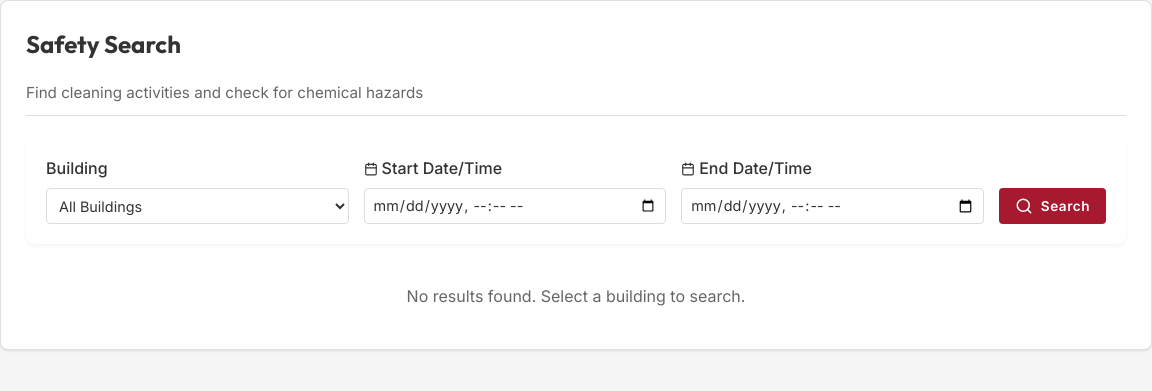
SafetySearch Component › should display search results with warning
The image size is (1152, 391).
Select "Block A" in the dropdown at (197, 206), box [46,188,349,224]
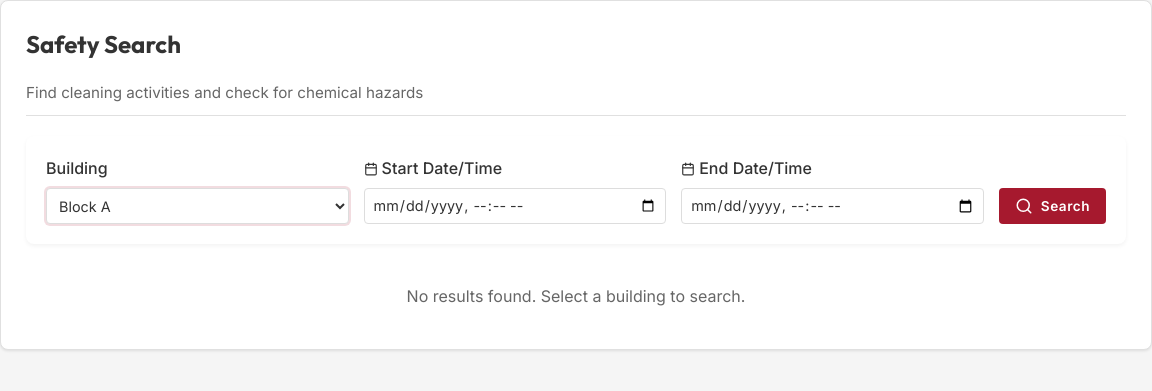
Click the button "Search".
click(1052, 206)  # box [999,188,1106,224]
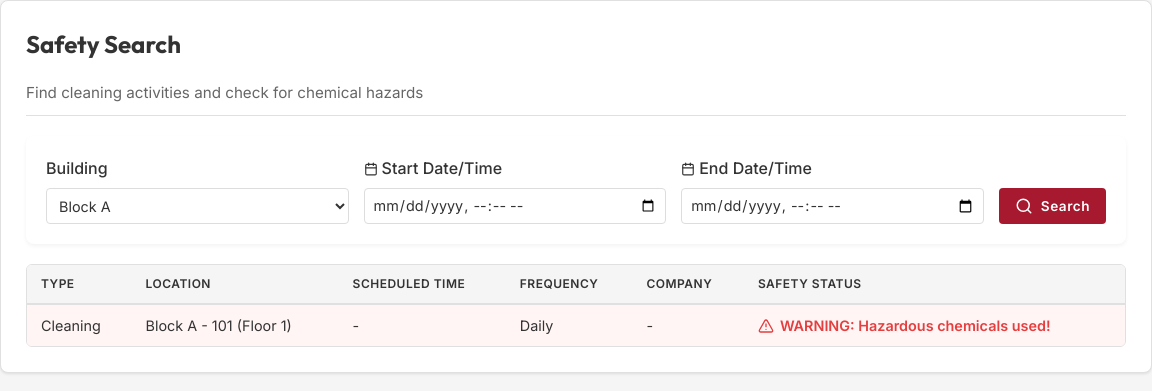
Now the text "Cleaning" is shown, box [27,304,132,346]
Now the text "WARNING: Hazardous chemicals used!" is shown, box [758,317,1050,334]
